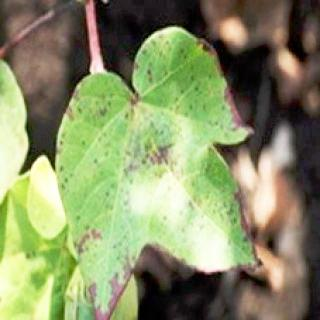leaf spot: (60, 39, 266, 317)
